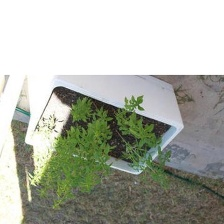foam_box: (19, 74, 188, 177)
